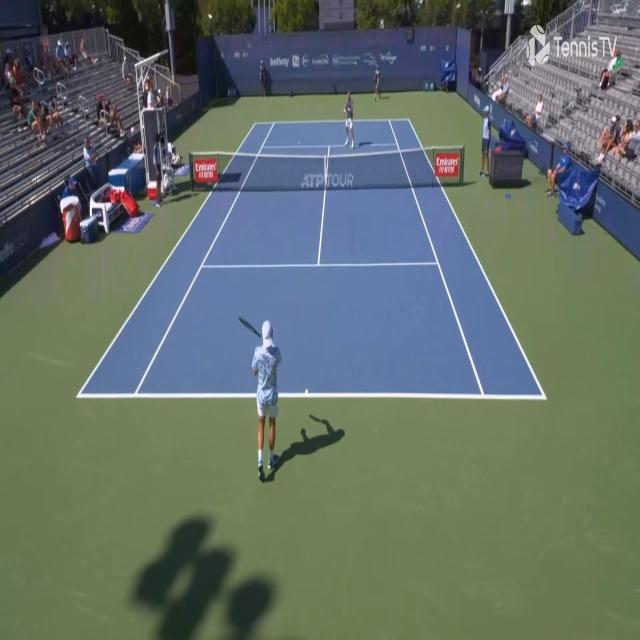tennis-player: (248, 307, 286, 486), (342, 89, 356, 149)
